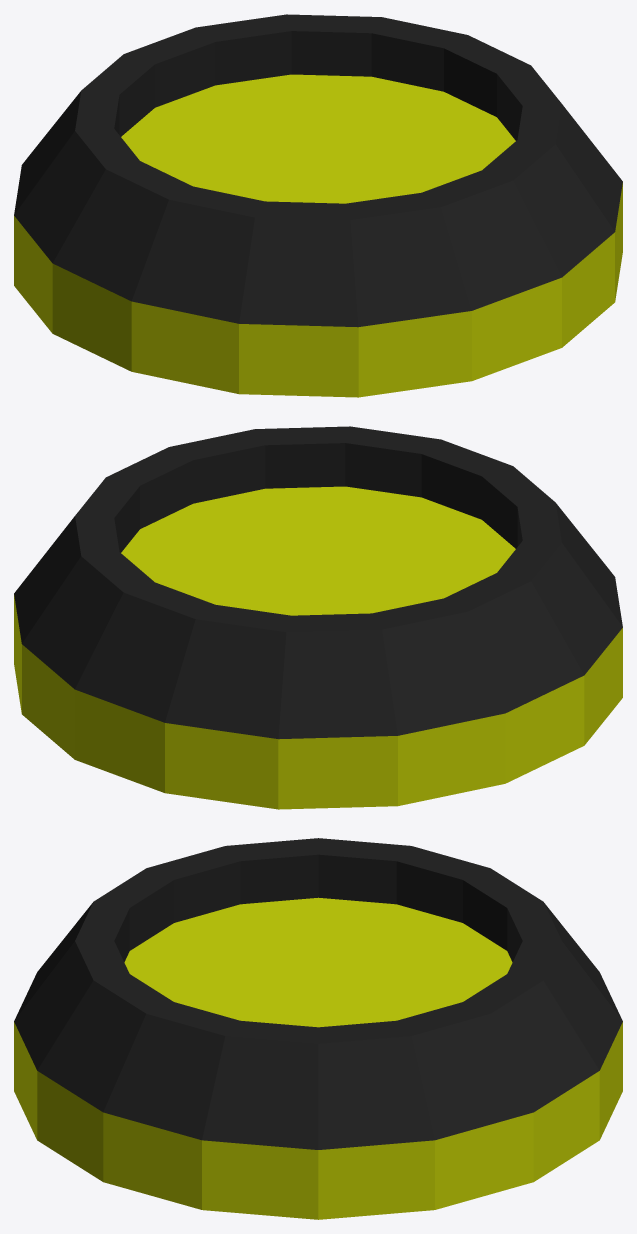
File: Trigger.fbx
The picture shows the model from 3 angles, top to bottom: view 1: azimuth 30°, elevation 25°; view 2: azimuth 150°, elevation 25°; view 3: azimuth 270°, elevation 25°; orthographic projection.
Parts seen in each view (by area): view 1: Cylinder; view 2: Cylinder; view 3: Cylinder.
Part boxes in pixels (x1,y1,x2,y2): Cylinder: (14,14,622,397); Cylinder: (14,426,622,809); Cylinder: (14,838,622,1219).
Size of the model in its own units: 200 by 54.43 by 200.
